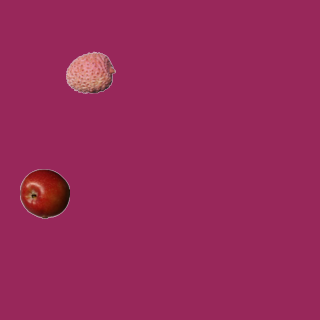Apple Braeburn: (19, 168, 69, 218)
Lychee: (65, 47, 115, 97)
